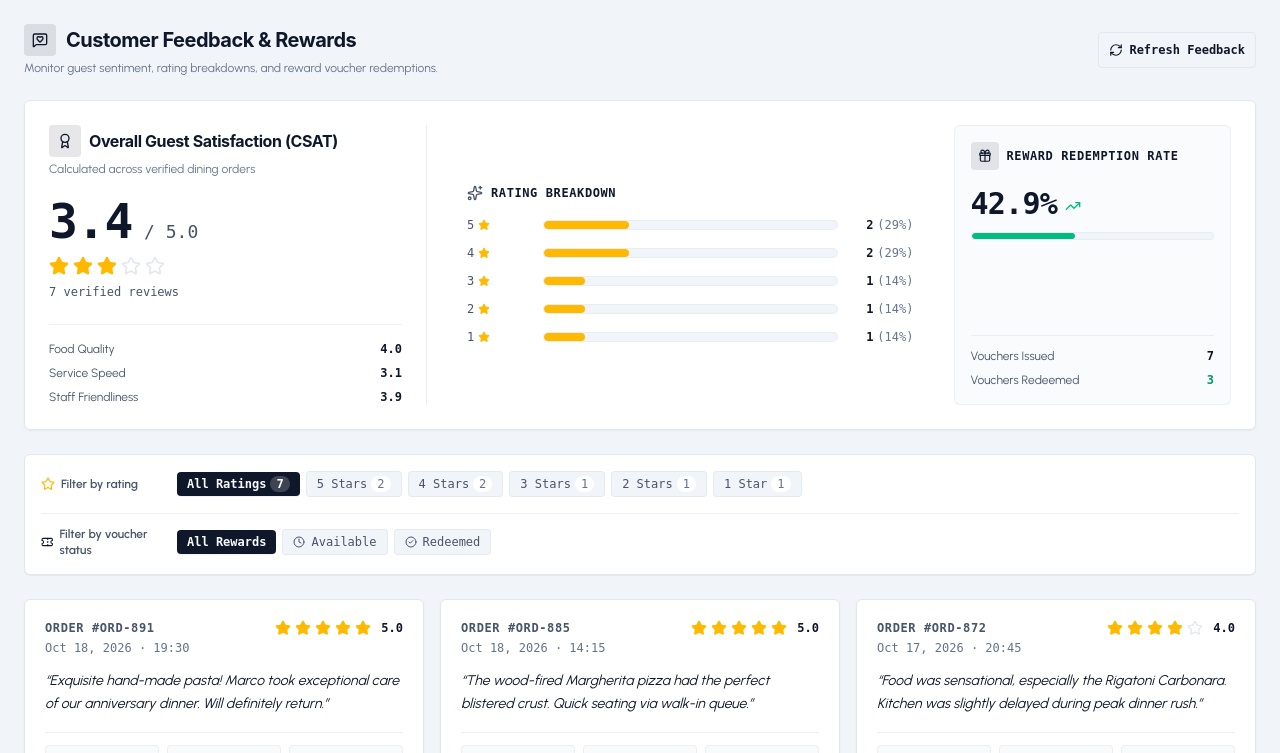
Test: FeedbackPage › filters feedback reviews by voucher status
Expected: the text "Order #ord-891" is shown, [45, 620, 155, 636]
Expected: the text "Order #ord-885" is shown, [461, 620, 571, 636]
Click the radio button labelled "Redeemed" at (442, 542), box [394, 529, 491, 555]
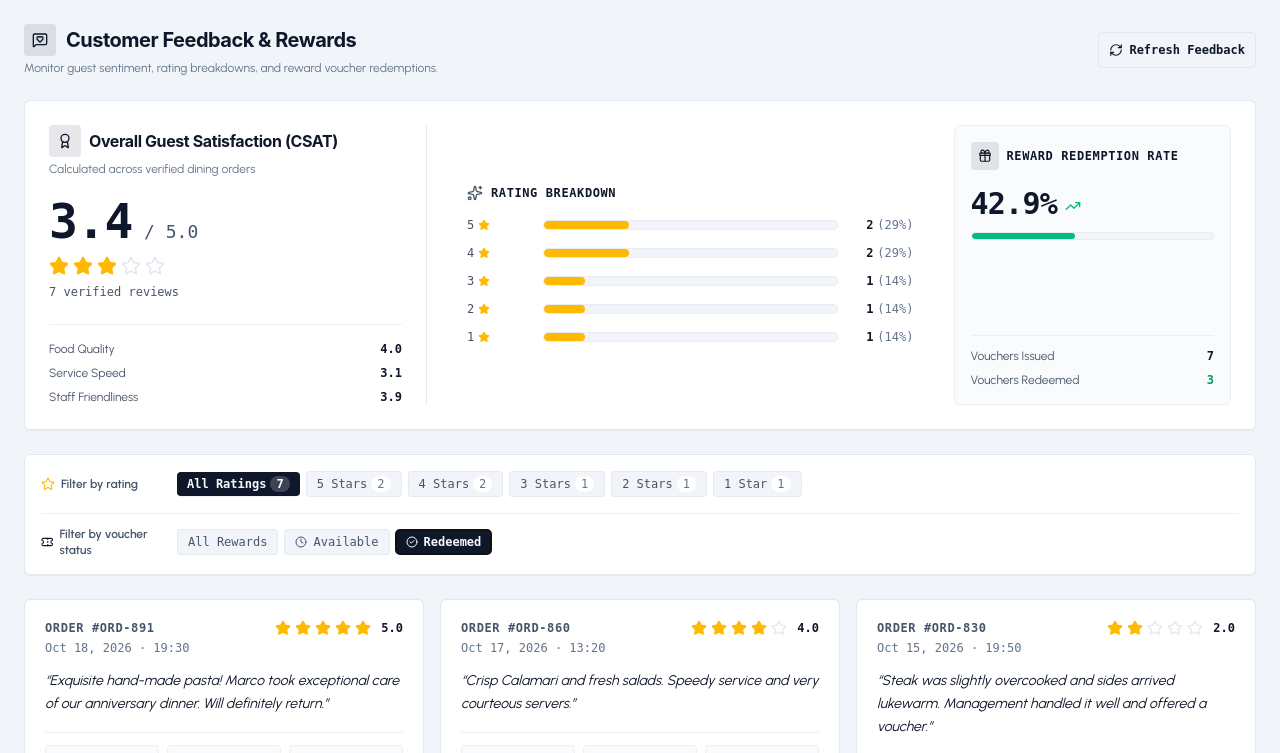
Expected: the text "Order #ord-891" is shown, [45, 620, 155, 636]
Result: the text "#ord-885" is gone
